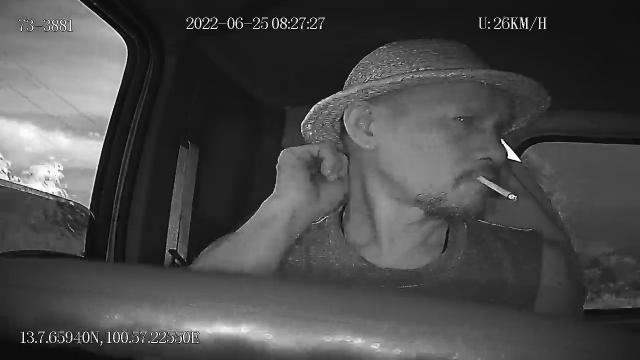Cigarette: (474, 175, 516, 202)
